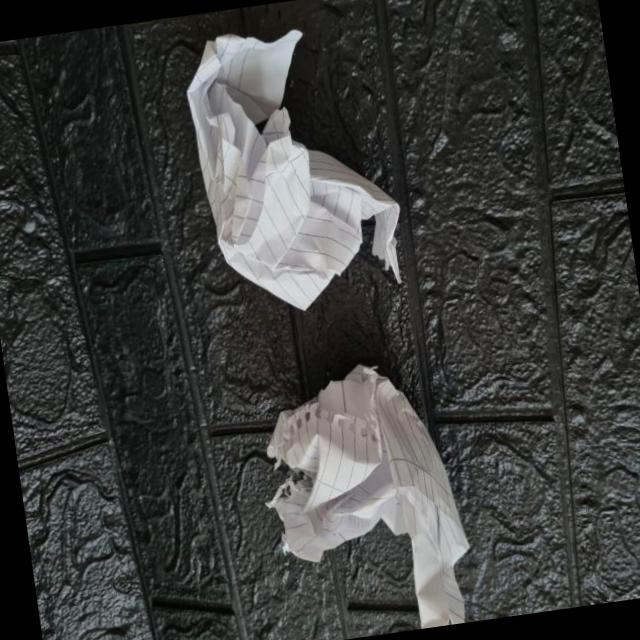cardboard paper: (186, 32, 398, 310), (265, 368, 467, 629)
